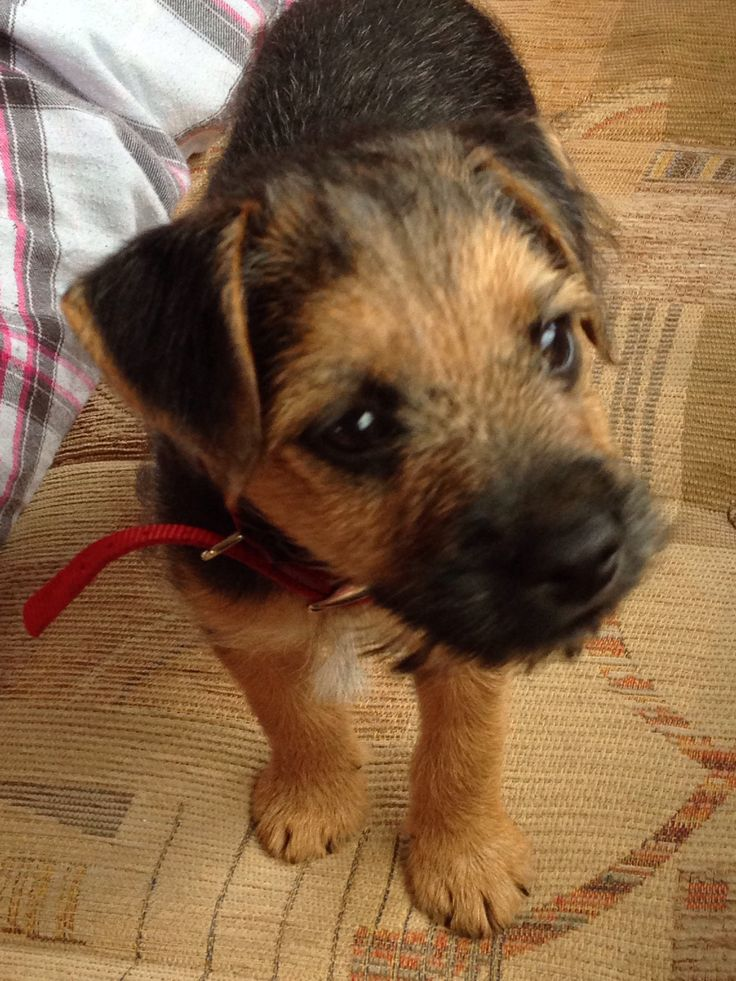dog: (74, 1, 638, 937)
